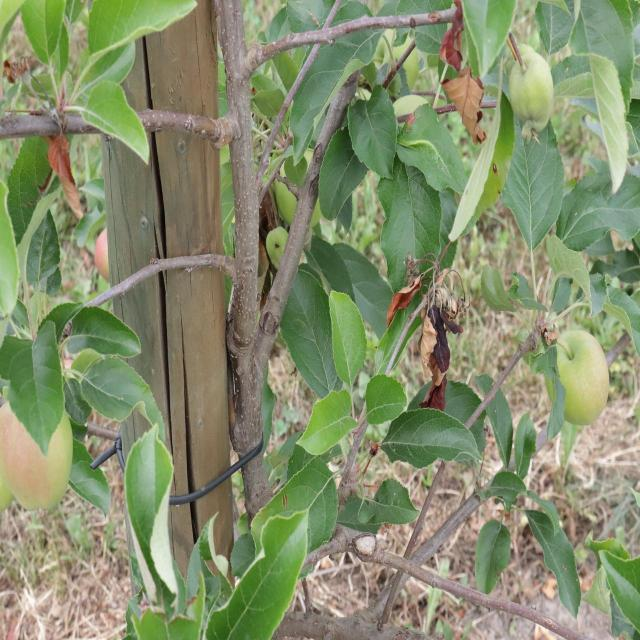-FireBlight-: (390, 265, 462, 381), (443, 2, 491, 143), (42, 125, 82, 217)
